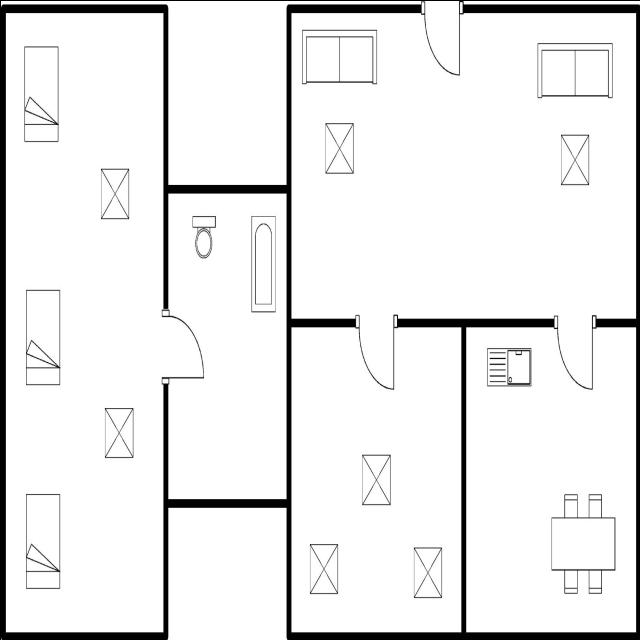bed: (18, 40, 62, 150), (22, 488, 64, 596), (22, 282, 64, 390)
coffee_table: (99, 398, 137, 466), (555, 126, 593, 192), (408, 540, 447, 604), (355, 446, 394, 510), (95, 161, 134, 225), (321, 116, 357, 180), (306, 538, 342, 600)
dining_table: (547, 488, 619, 600)
large_sink: (188, 207, 220, 264)
large_sofa: (533, 36, 617, 105), (298, 26, 382, 88)
sink: (484, 340, 534, 392)
tub: (246, 208, 279, 318)
